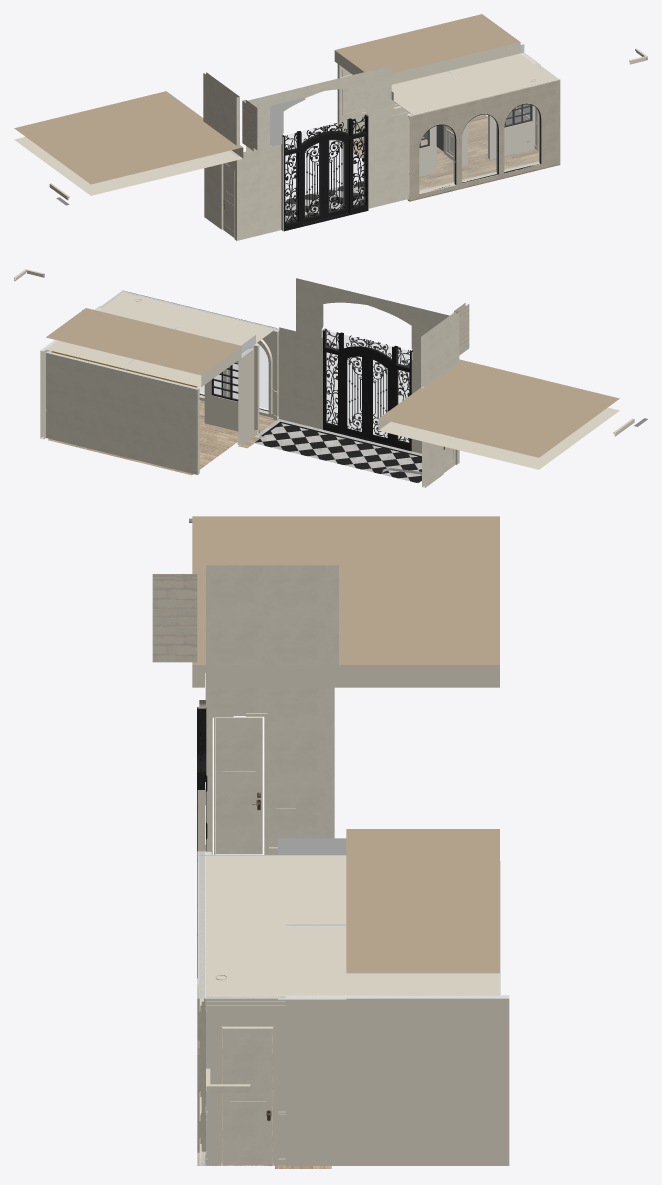
The model's file is office-hall-228d4c5a917e.glb.
The picture shows the model from 3 angles, top to bottom: view 1: azimuth 30°, elevation 25°; view 2: azimuth 150°, elevation 25°; view 3: azimuth 270°, elevation 25°; orthographic projection. The views are drawn at different scales.
Visible parts, largest first — view 1: office-hall-look-2575515a05775d9e, office-hall-look-d5a4a1b5d3594c04, office-hall-c9e78b9ec1bb39cd, office-hall-dbd60ee5c3733ed6, office-hall-look-34525a54e63b733b, office-hall-look-bce662e26d5a5947, office-hall-38561c12898e4d43, office-hall-c02a36d0521470a9, office-hall-5cbcc744e6f960f3, office-hall-look-746250f96522f643, office-hall-look-dbd60ee5c3733ed6, office-hall-c374268555806af8 (+19 smaller); view 2: office-hall-look-2575515a05775d9e, office-hall-look-19647d6da46c2b80, office-hall-look-d5a4a1b5d3594c04, office-hall-look-c4ac463b6a960119, office-hall-look-34525a54e63b733b, office-hall-dbd60ee5c3733ed6, office-hall-look-3231f73bae020736, office-hall-look-bce662e26d5a5947, office-hall-look-746250f96522f643, office-hall-look-b3086b8cd368d7da, office-hall-look-26f615ec640e02ab, office-hall-look-6a051330000fbca1 (+17 smaller); view 3: office-hall-look-2575515a05775d9e, office-hall-look-6a1144f4e43410bb, office-hall-look-746250f96522f643, office-hall-look-85f0fd939e0fcc78, office-hall-dbd60ee5c3733ed6, office-hall-look-dbd60ee5c3733ed6, office-hall-cf6d22c5317ced0b, office-hall-look-3322bc58bedf5620, office-hall-68d06b361ac47823, office-hall-look-5e296beffb47d853, office-hall-c9e78b9ec1bb39cd, office-hall-look-bce662e26d5a5947.
Boxes of the visible parts, x1=… form: office-hall-look-2575515a05775d9e: x1=14, y1=14, x2=520, y2=195; office-hall-look-d5a4a1b5d3594c04: x1=236, y1=112, x2=407, y2=240; office-hall-c9e78b9ec1bb39cd: x1=407, y1=82, x2=545, y2=200; office-hall-dbd60ee5c3733ed6: x1=392, y1=63, x2=559, y2=115; office-hall-look-34525a54e63b733b: x1=246, y1=65, x2=391, y2=151; office-hall-look-bce662e26d5a5947: x1=282, y1=114, x2=368, y2=231; office-hall-38561c12898e4d43: x1=419, y1=125, x2=454, y2=191; office-hall-c02a36d0521470a9: x1=462, y1=115, x2=497, y2=180; office-hall-5cbcc744e6f960f3: x1=504, y1=104, x2=539, y2=170; office-hall-look-746250f96522f643: x1=203, y1=72, x2=239, y2=145; office-hall-look-dbd60ee5c3733ed6: x1=391, y1=44, x2=540, y2=100; office-hall-c374268555806af8: x1=407, y1=148, x2=560, y2=201; office-hall-look-2575515a05775d9e: x1=46, y1=308, x2=619, y2=469; office-hall-look-19647d6da46c2b80: x1=46, y1=351, x2=199, y2=474; office-hall-look-d5a4a1b5d3594c04: x1=279, y1=327, x2=459, y2=462; office-hall-look-c4ac463b6a960119: x1=254, y1=423, x2=421, y2=483; office-hall-look-34525a54e63b733b: x1=296, y1=278, x2=449, y2=361; office-hall-dbd60ee5c3733ed6: x1=99, y1=290, x2=276, y2=346; office-hall-look-3231f73bae020736: x1=341, y1=351, x2=367, y2=438; office-hall-look-bce662e26d5a5947: x1=323, y1=328, x2=412, y2=451; office-hall-look-746250f96522f643: x1=421, y1=311, x2=459, y2=388; office-hall-look-b3086b8cd368d7da: x1=325, y1=331, x2=409, y2=442; office-hall-look-26f615ec640e02ab: x1=367, y1=352, x2=393, y2=445; office-hall-look-6a051330000fbca1: x1=238, y1=347, x2=253, y2=445; office-hall-look-2575515a05775d9e: x1=192, y1=516, x2=499, y2=995; office-hall-look-6a1144f4e43410bb: x1=285, y1=995, x2=509, y2=1165; office-hall-look-746250f96522f643: x1=206, y1=565, x2=338, y2=664; office-hall-look-85f0fd939e0fcc78: x1=206, y1=687, x2=334, y2=854; office-hall-dbd60ee5c3733ed6: x1=198, y1=855, x2=292, y2=998; office-hall-look-dbd60ee5c3733ed6: x1=278, y1=838, x2=346, y2=999; office-hall-cf6d22c5317ced0b: x1=222, y1=1028, x2=272, y2=1164; office-hall-look-3322bc58bedf5620: x1=215, y1=716, x2=262, y2=854; office-hall-68d06b361ac47823: x1=206, y1=995, x2=285, y2=1165; office-hall-look-5e296beffb47d853: x1=152, y1=574, x2=197, y2=662; office-hall-c9e78b9ec1bb39cd: x1=197, y1=851, x2=205, y2=1151; office-hall-look-bce662e26d5a5947: x1=197, y1=707, x2=206, y2=977.
Bounding box in the file's own units: 21.96 × 5.17 × 5.78.
Materials: 33 (7 with a texture image).
